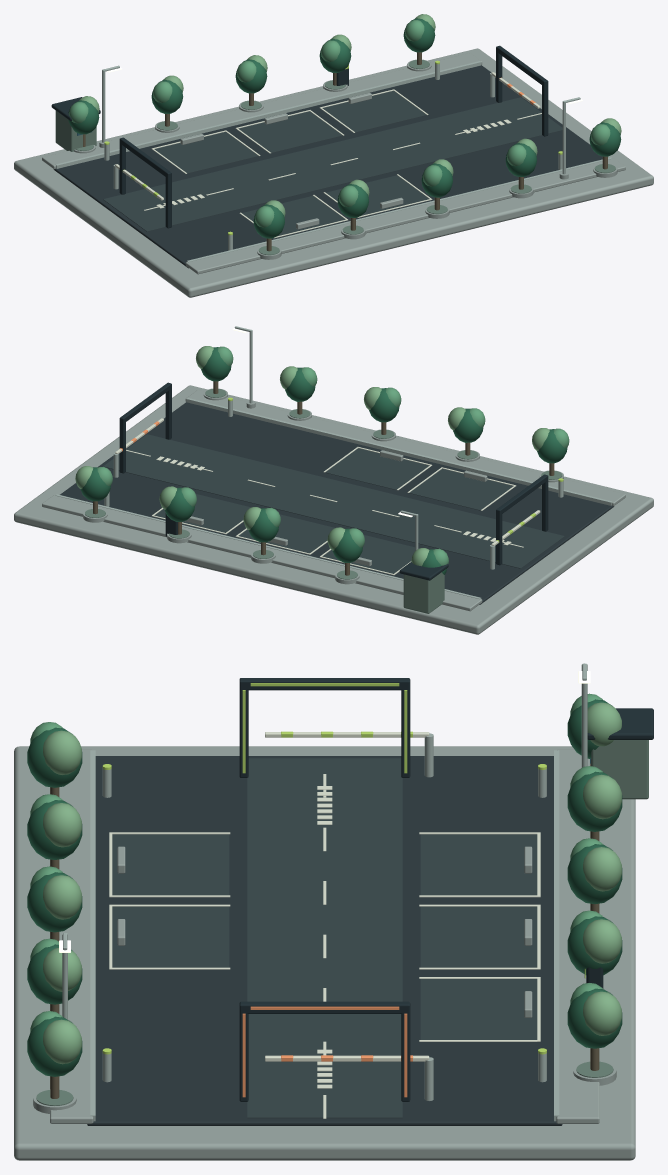
Rendered from parking-lot.glb.
The picture shows the model from 3 angles, top to bottom: view 1: azimuth 30°, elevation 25°; view 2: azimuth 150°, elevation 25°; view 3: azimuth 270°, elevation 25°; orthographic projection. The views are drawn at different scales.
Visible parts, largest first — view 1: Asphalt driving surface, Central driving lane, Concrete site foundation, Leaf crown (×10), Raised pedestrian pavement 5.7, Raised pedestrian pavement -5.7, Bay surface 3, Bay surface 5, Bay surface 1, Pavement edge -5.7, Bay surface 2, Bay surface 4 (+4 smaller); view 2: Asphalt driving surface, Concrete site foundation, Central driving lane, Leaf crown (×9), Raised pedestrian pavement -5.7, Raised pedestrian pavement 5.7, Bay surface 4, Bay surface 2, Pavement edge 5.7, Bay surface 3, Bay surface 1, Bay surface 5 (+5 smaller); view 3: Asphalt driving surface, Central driving lane, Concrete site foundation, Leaf crown (×20), Raised pedestrian pavement -5.7, Bay surface 2, Bay surface 1, Bay surface 4, Bay surface 3, Bay surface 5, Raised pedestrian pavement 5.7, Entry control kiosk (+9 smaller).
Boxes of the visible parts, x1=… form: Asphalt driving surface: x1=53, y1=65, x2=602, y2=268; Central driving lane: x1=103, y1=97, x2=562, y2=231; Concrete site foundation: x1=14, y1=48, x2=653, y2=297; Leaf crown (×10): x1=68, y1=18, x2=621, y2=238; Raised pedestrian pavement 5.7: x1=185, y1=158, x2=625, y2=274; Raised pedestrian pavement -5.7: x1=42, y1=53, x2=482, y2=169; Bay surface 3: x1=238, y1=111, x2=342, y2=153; Bay surface 5: x1=322, y1=91, x2=426, y2=132; Bay surface 1: x1=154, y1=132, x2=258, y2=173; Pavement edge -5.7: x1=55, y1=61, x2=481, y2=168; Bay surface 2: x1=242, y1=196, x2=345, y2=236; Bay surface 4: x1=326, y1=175, x2=429, y2=215; Asphalt driving surface: x1=60, y1=402, x2=614, y2=604; Concrete site foundation: x1=14, y1=385, x2=653, y2=634; Central driving lane: x1=103, y1=434, x2=564, y2=568; Leaf crown (×9): x1=80, y1=347, x2=567, y2=562; Raised pedestrian pavement -5.7: x1=42, y1=495, x2=482, y2=611; Raised pedestrian pavement 5.7: x1=185, y1=390, x2=625, y2=506; Bay surface 4: x1=325, y1=448, x2=429, y2=489; Bay surface 2: x1=409, y1=468, x2=513, y2=510; Pavement edge 5.7: x1=186, y1=398, x2=612, y2=505; Bay surface 3: x1=239, y1=514, x2=334, y2=553; Bay surface 1: x1=322, y1=535, x2=419, y2=573; Bay surface 5: x1=154, y1=494, x2=251, y2=532; Asphalt driving surface: x1=87, y1=756, x2=562, y2=1125; Central driving lane: x1=247, y1=758, x2=402, y2=1118; Concrete site foundation: x1=14, y1=746, x2=635, y2=1160; Leaf crown (×20): x1=27, y1=699, x2=622, y2=1076; Raised pedestrian pavement -5.7: x1=556, y1=749, x2=599, y2=1123; Bay surface 2: x1=112, y1=834, x2=229, y2=895; Bay surface 1: x1=420, y1=834, x2=537, y2=895; Bay surface 4: x1=112, y1=906, x2=229, y2=967; Bay surface 3: x1=420, y1=906, x2=537, y2=967; Bay surface 5: x1=420, y1=979, x2=537, y2=1039; Raised pedestrian pavement 5.7: x1=50, y1=749, x2=93, y2=1123; Entry control kiosk: x1=591, y1=740, x2=648, y2=799.
Bounding box in the file's own units: 21.35 × 4.05 × 14.41.
